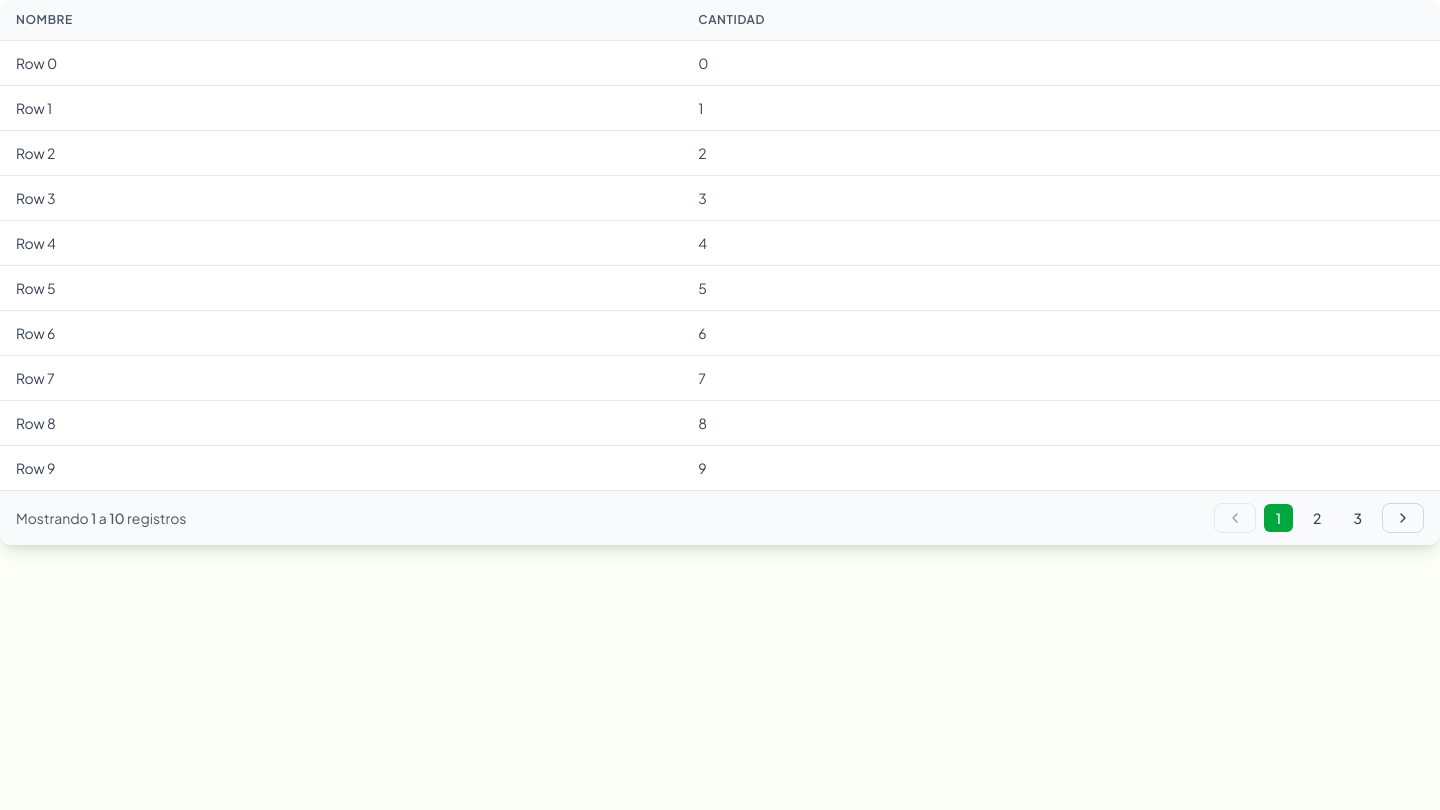
Test: RiskDataTable › internal pagination › walks forward and back with the arrow buttons
Click the 5th button. click: {"x": 1403, "y": 518}
box: x1=1382 y1=503 x2=1424 y2=533
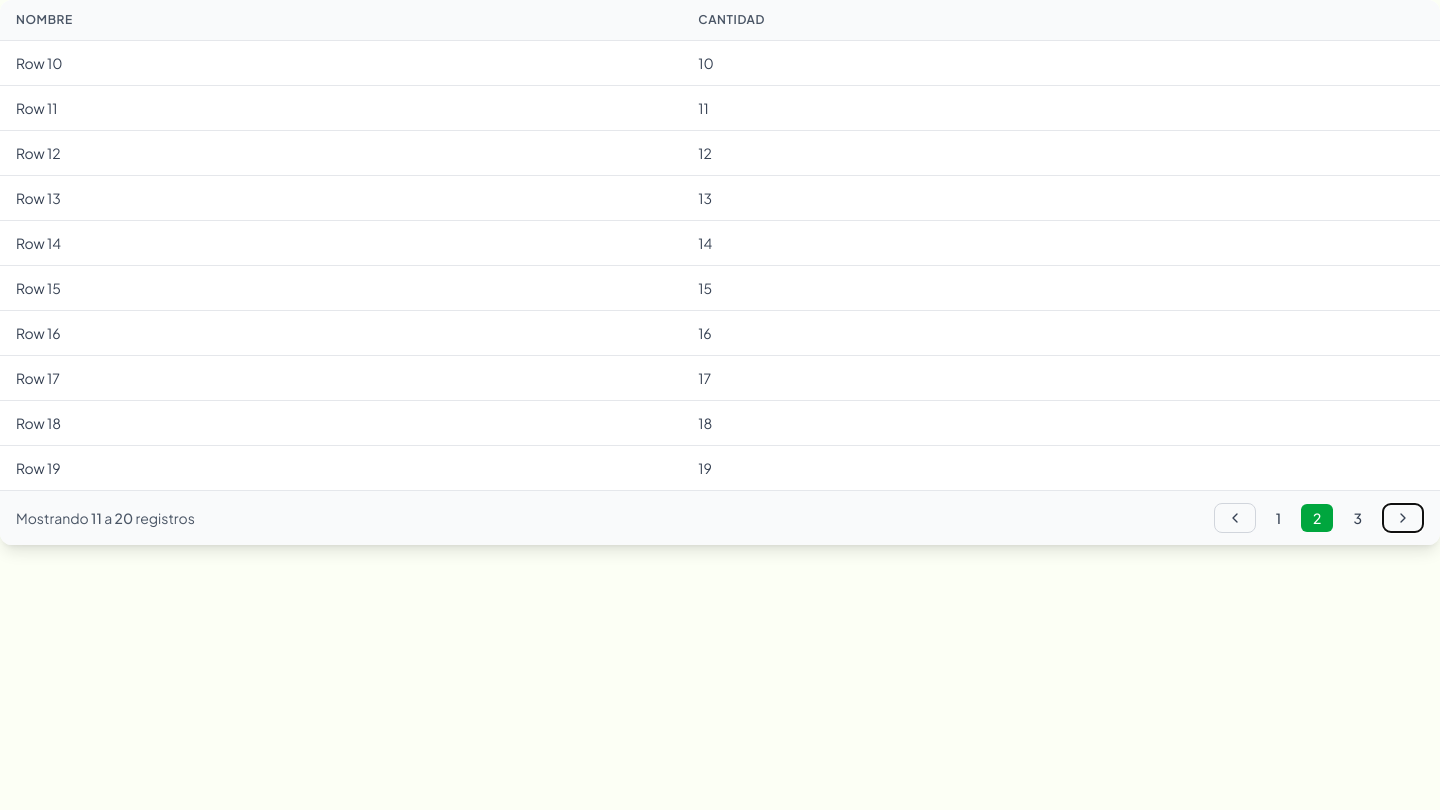
expect the cell "Row 10" is shown: met, box x1=0 y1=40 x2=682 y2=86
Click the 1st button. click: {"x": 1235, "y": 518}
box: x1=1214 y1=503 x2=1256 y2=533
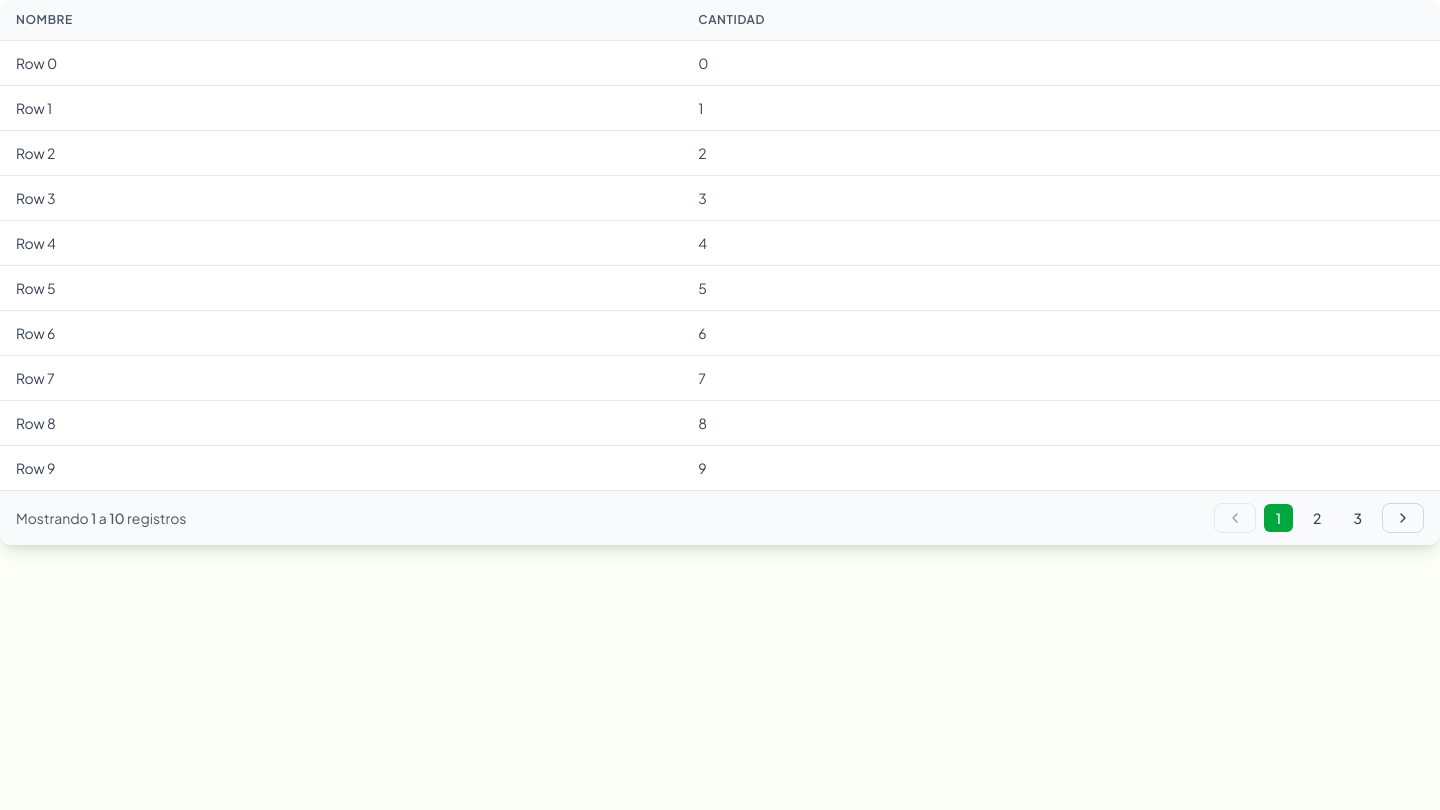
expect the cell "Row 0" is shown: met, box x1=0 y1=40 x2=682 y2=86
